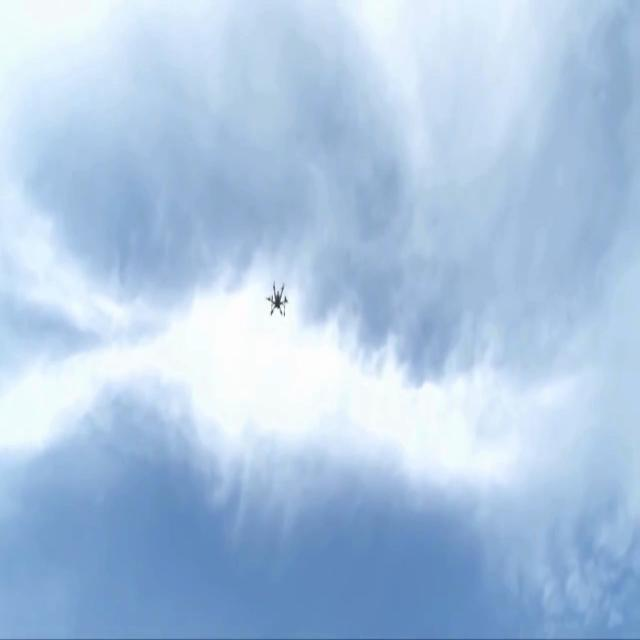drone: (265, 280, 288, 317)
